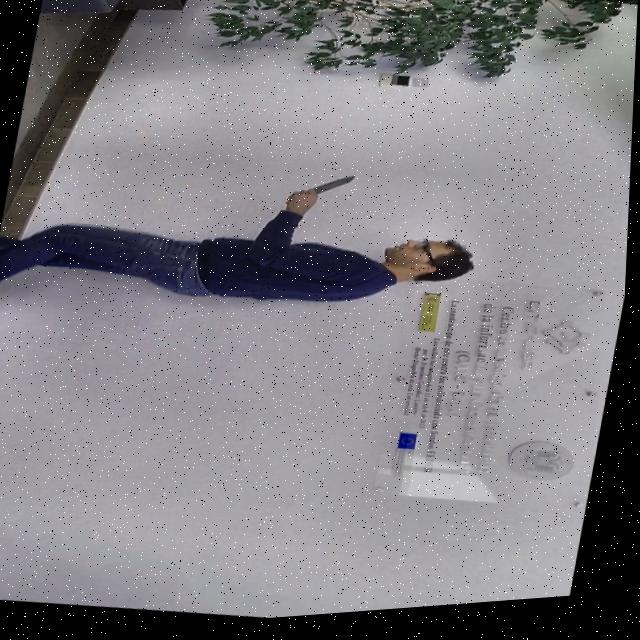knife: (312, 174, 358, 205)
